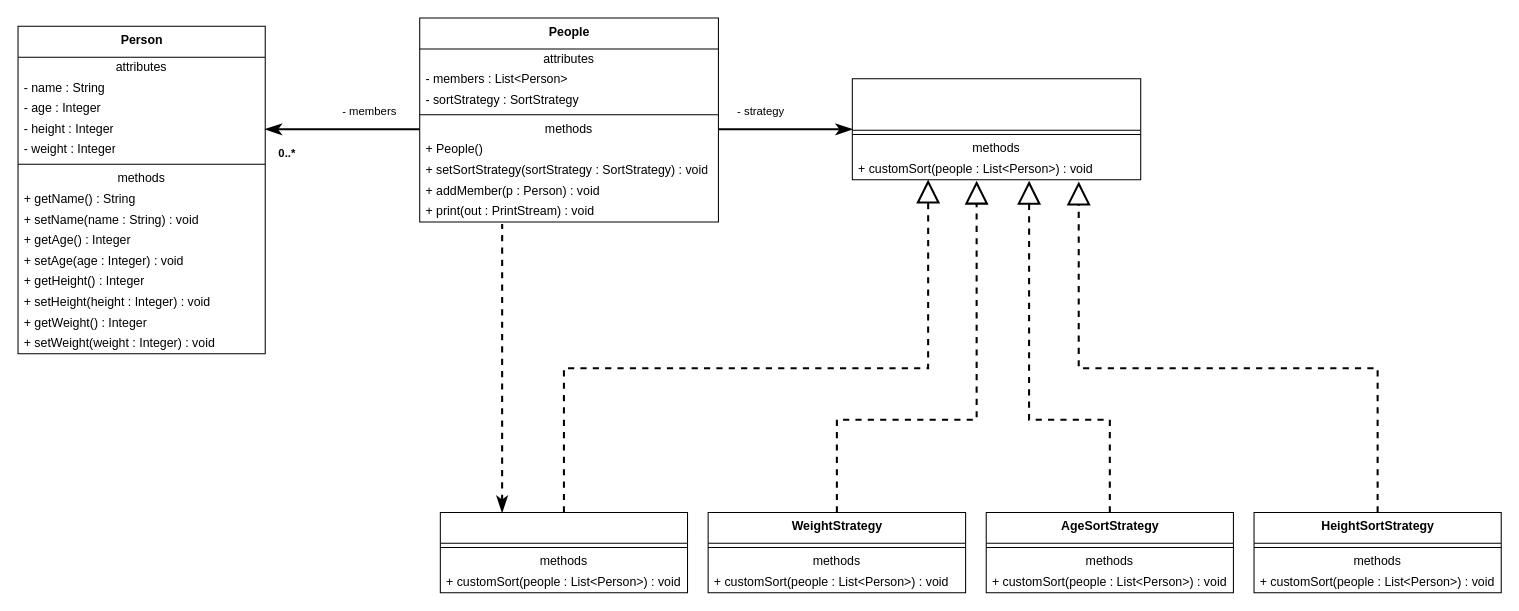
Image size: 1519x611. Some labels were removed from this diagram. Each missing label, with the box of its shape:
<<interface>> SortStrategy: (851, 78, 1141, 180)
NameSortStrategy: (439, 511, 688, 593)
